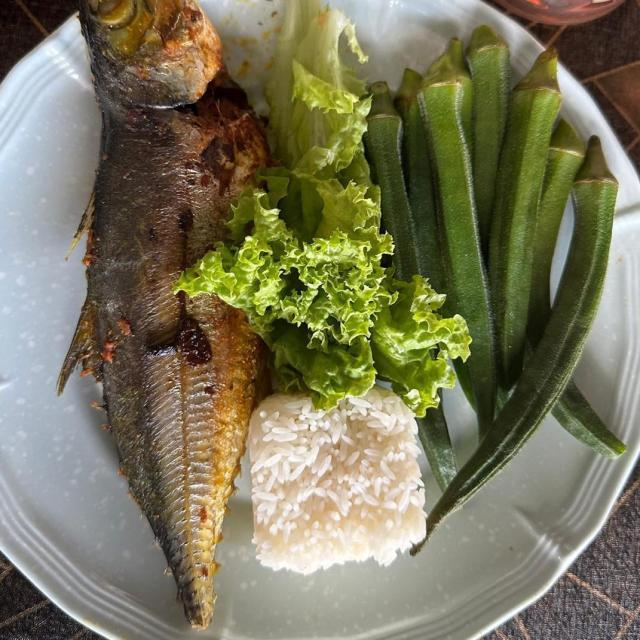Fish: (53, 0, 276, 622)
Plate: (0, 16, 639, 639)
Rice: (248, 384, 430, 579)
Vegetables: (174, 0, 630, 555)
